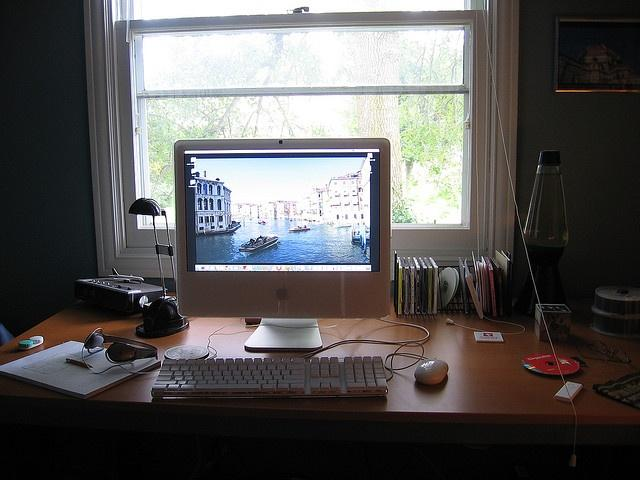AIO PC-Monitor-TV: (173, 137, 391, 319)
